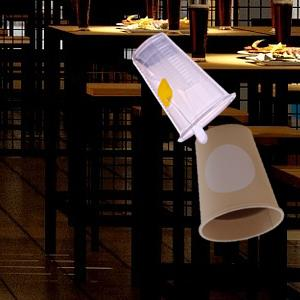cup: (195, 122, 284, 242)
